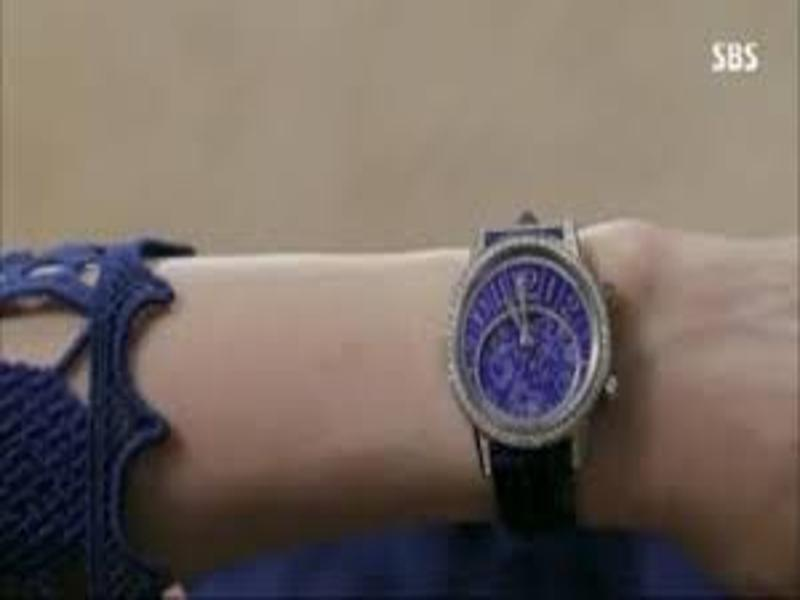watch: (443, 208, 621, 528)
